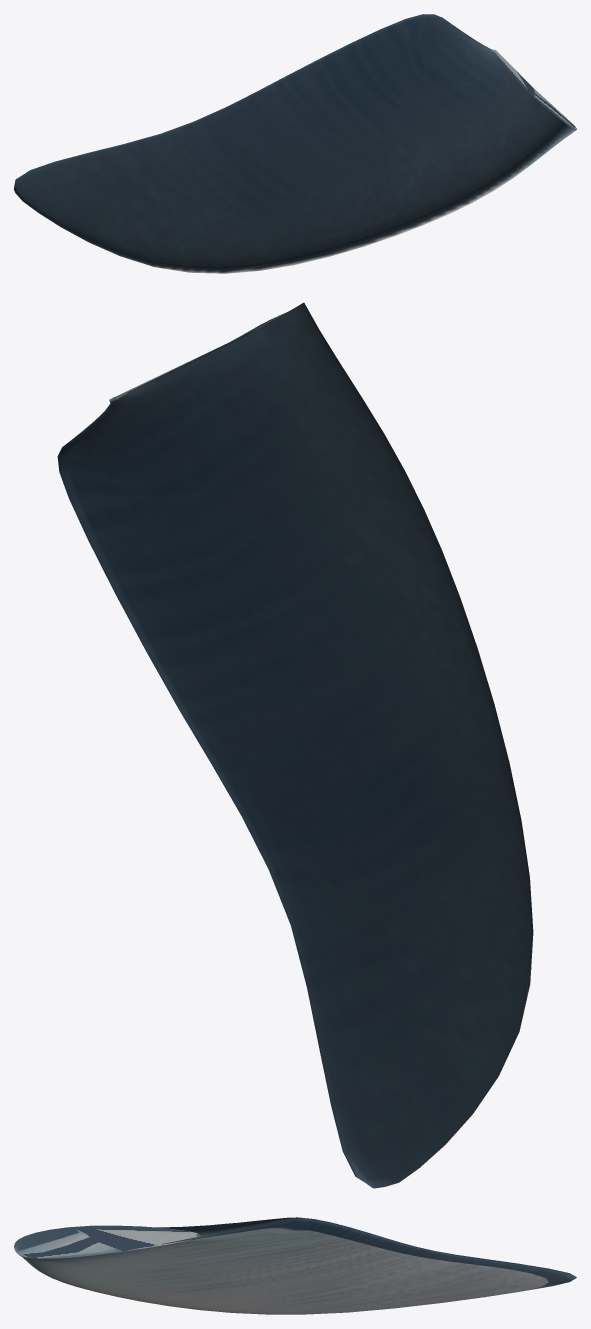
Rendered from AletaD_delfin.obj.
The picture shows the model from 3 angles, top to bottom: view 1: azimuth 30°, elevation 25°; view 2: azimuth 150°, elevation 25°; view 3: azimuth 270°, elevation 25°; orthographic projection. The views are drawn at different scales.
Parts seen in each view (by area): view 1: dolphin; view 2: dolphin; view 3: dolphin.
Part boxes in pixels (left/top/right/bottom): dolphin: left=14, top=14, right=576, bottom=273; dolphin: left=57, top=302, right=533, bottom=1188; dolphin: left=14, top=1217, right=576, bottom=1314.
Size of the model in its own units: 9.98 by 6.47 by 14.58.
Materials: 2 (2 with a texture image).
